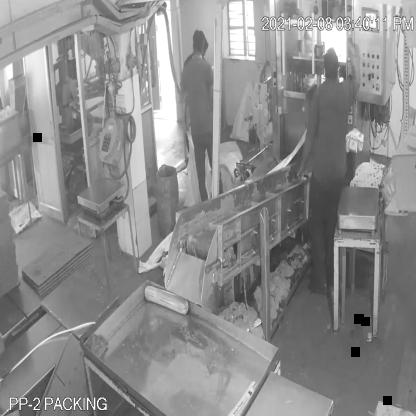no_glove: (288, 121, 317, 182), (348, 34, 365, 100)
